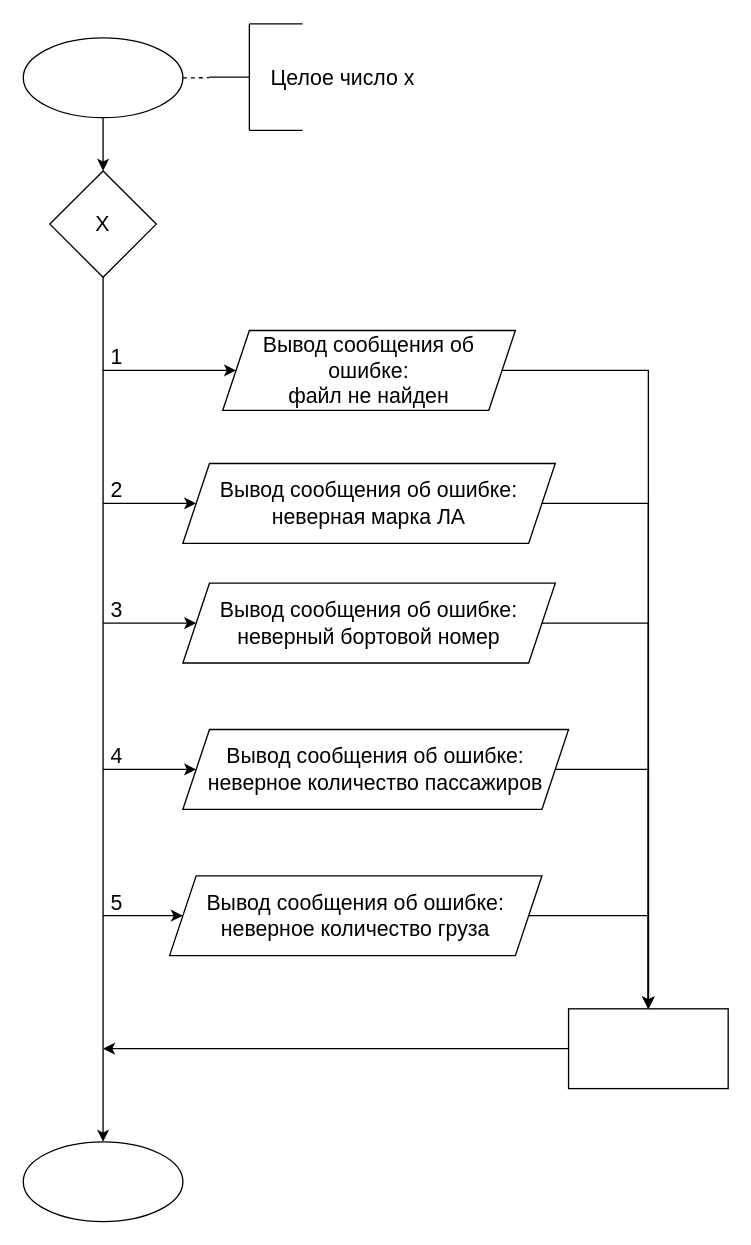
Some shapes in this 751 by 1245 pixel diagram are drawn without their labels. Each missing label, with the centre of its shape:
"Завершение работы программы" belongs at pixel 647 1048.
"КОНЕЦ" belongs at pixel 102 1181.
"НАЧАЛО" belongs at pixel 102 77.
